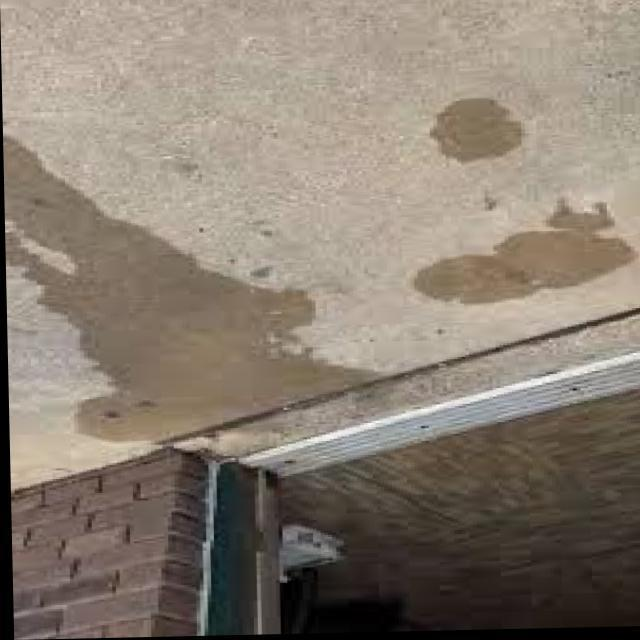water accumulation: (3, 138, 393, 454), (409, 197, 640, 306), (428, 98, 523, 166)
